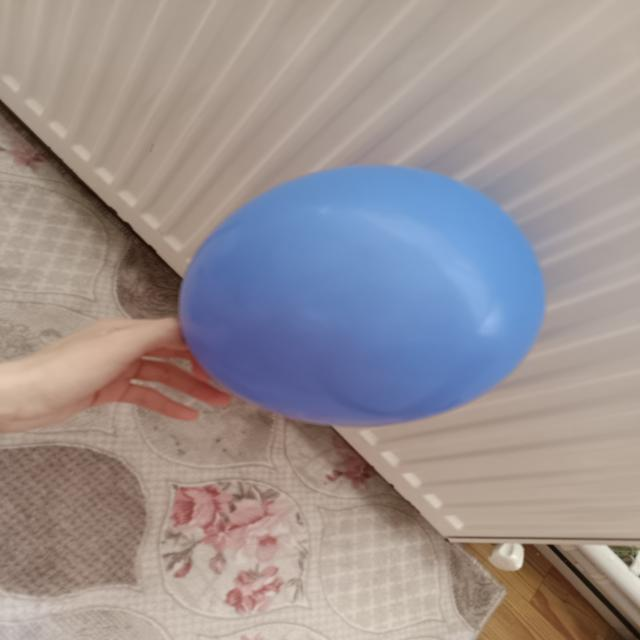blue: (180, 165, 547, 428)
